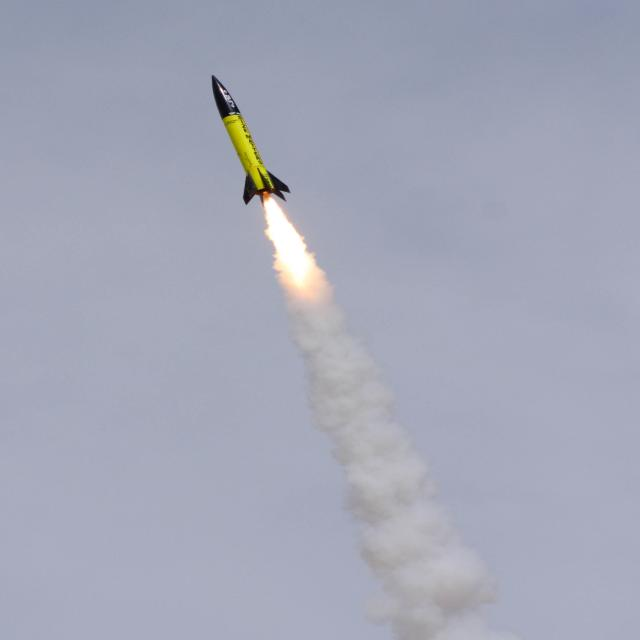Rocket: (210, 74, 292, 206)
